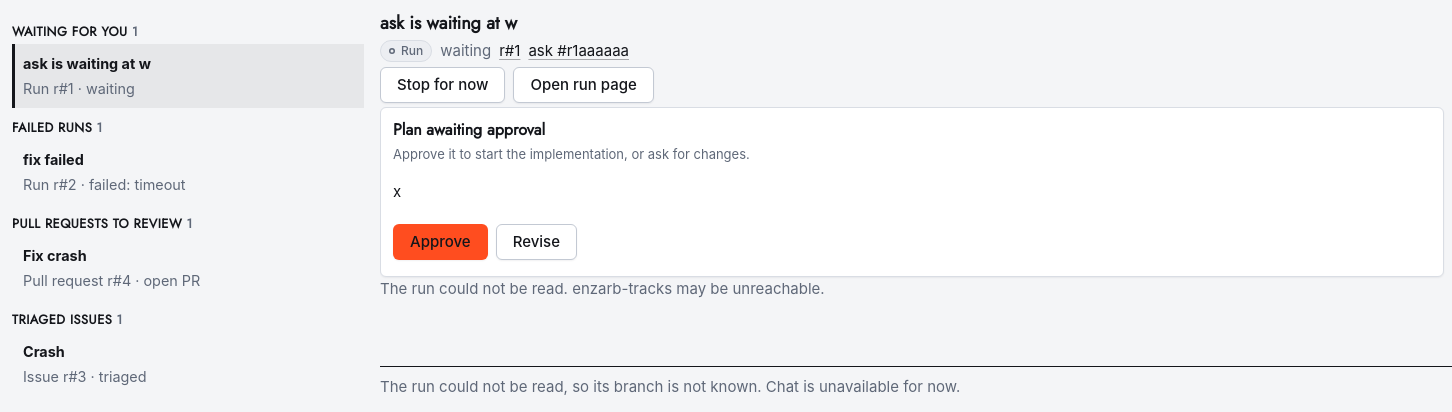
TaskList › shows a failed answer without confirming it
Click the button "Approve" at (440, 242), box [393,224,488,260]
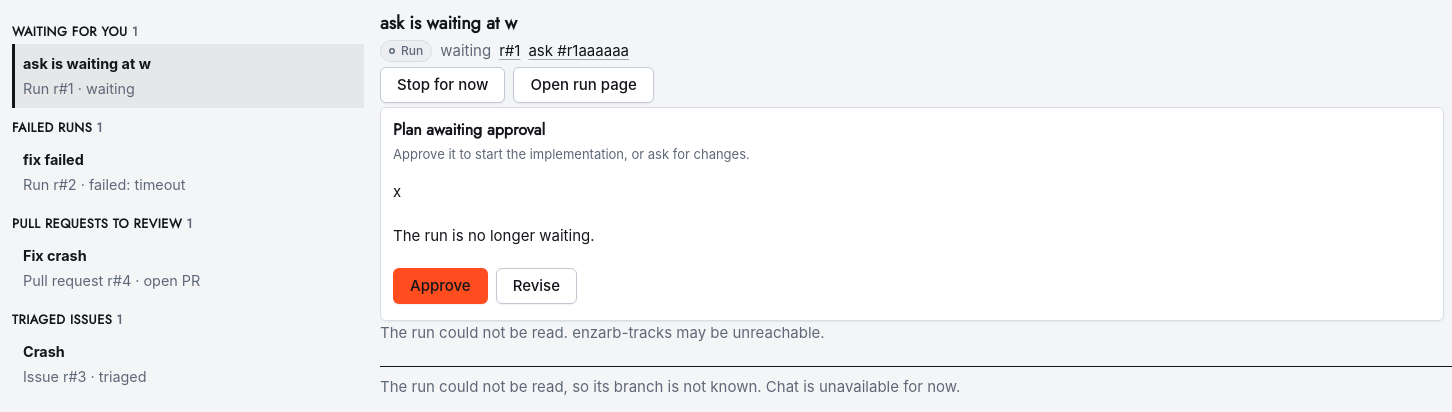
Result: the message shows "no longer waiting" at [393,226,594,245]
